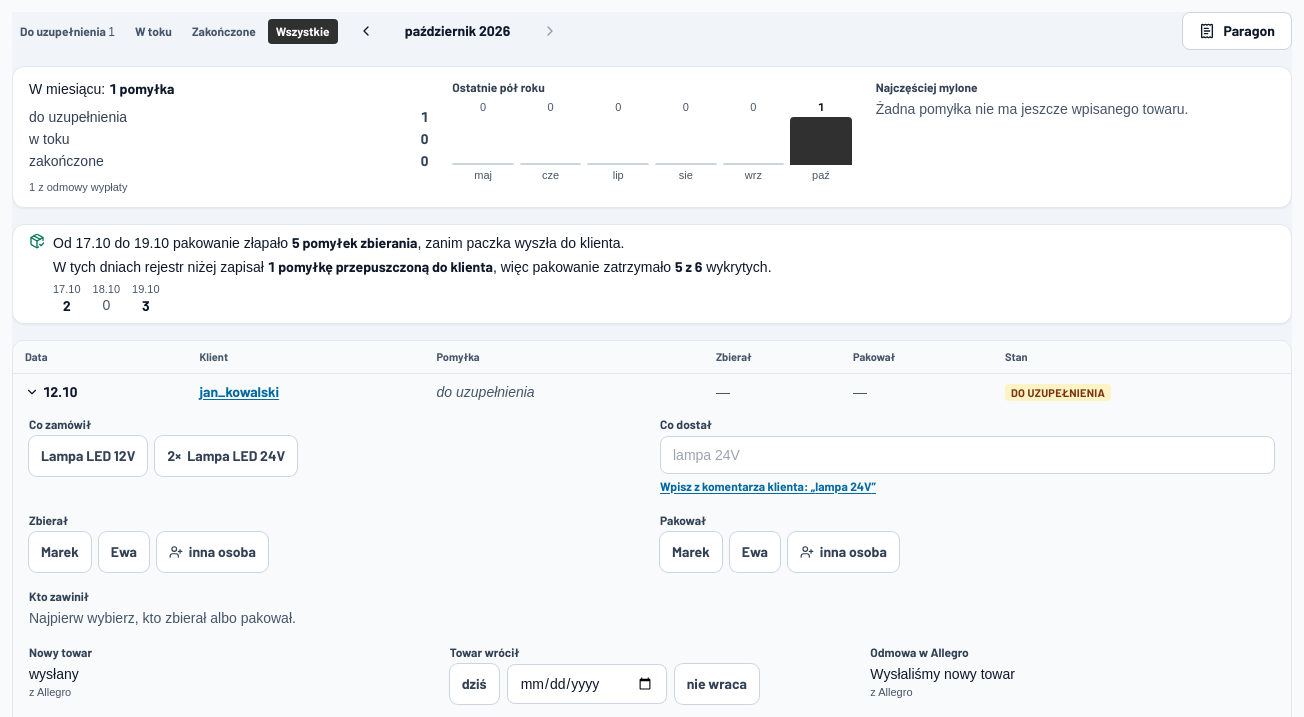
Test case: rejestr pomyłek › 409 pokazuje krótką informację i świeży stan od serwera
The width and height of the screenshot is (1304, 717).
Step 1. Click the 1st button "Marek" → (60, 552), box x1=29 y1=532 x2=91 y2=572
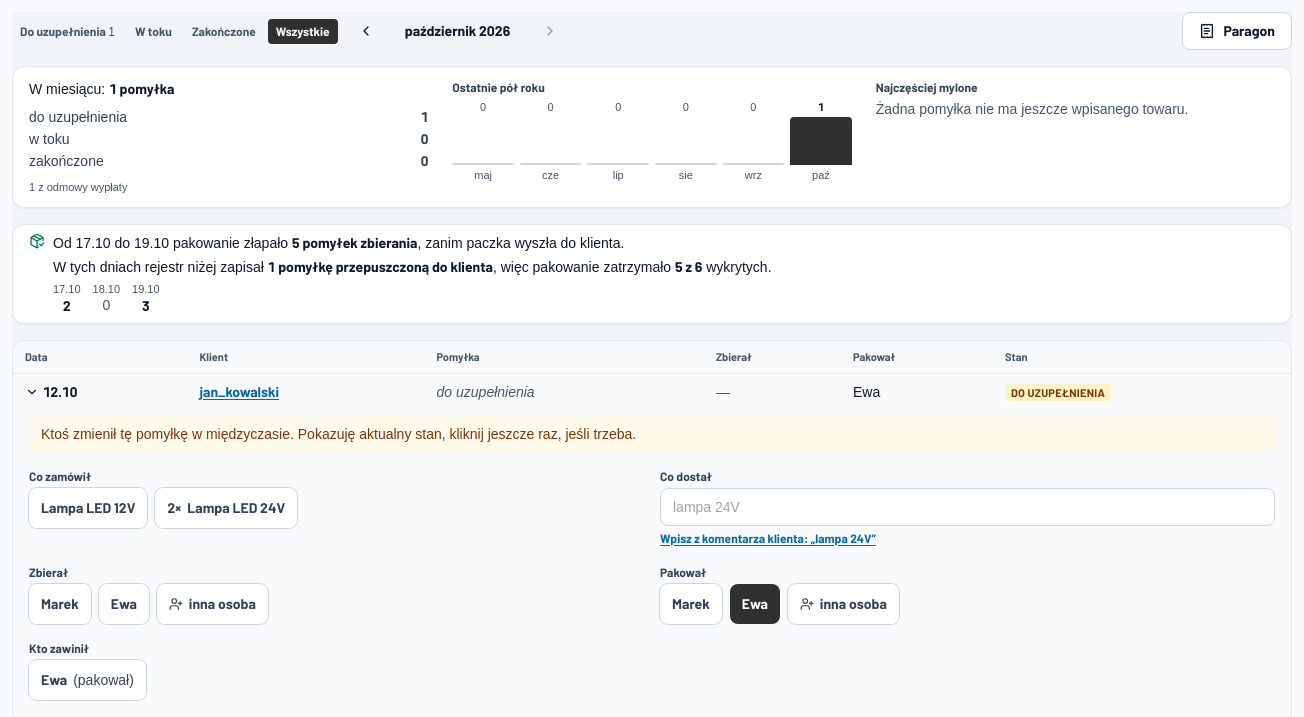
Expected: the text "Ktoś zmienił tę pomyłkę w międzyczasie" is shown, x1=41 y1=426 x2=636 y2=442
